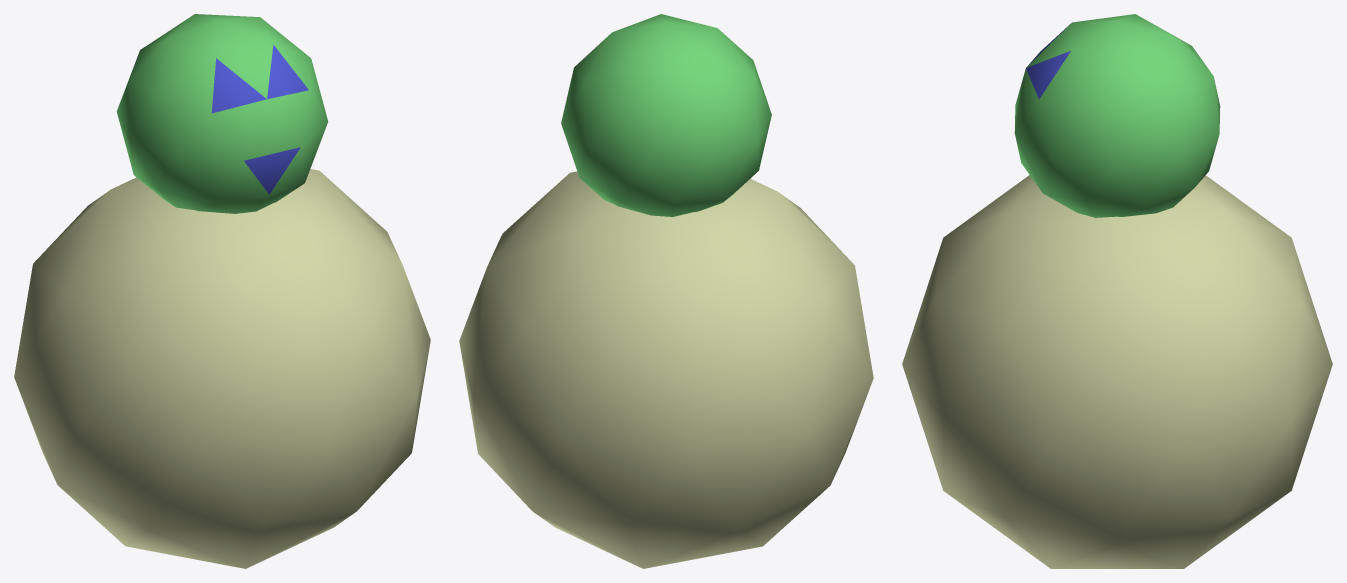
Rendered from character.dae.
3 views of the same model, side by side, from view 1: azimuth 30°, elevation 25°; view 2: azimuth 150°, elevation 25°; view 3: azimuth 270°, elevation 25° (orthographic).
Visible parts, largest first — view 1: Icosphere, Icosphere_001; view 2: Icosphere, Icosphere_001; view 3: Icosphere, Icosphere_001.
Part boxes in pixels (left/top/right/bottom): Icosphere: left=14, top=169, right=430, bottom=568; Icosphere_001: left=116, top=14, right=328, bottom=213; Icosphere: left=459, top=171, right=873, bottom=568; Icosphere_001: left=561, top=14, right=771, bottom=216; Icosphere: left=902, top=175, right=1332, bottom=568; Icosphere_001: left=1014, top=14, right=1220, bottom=217.
Size of the model in its own units: 0.9511 by 1 by 1.38.
